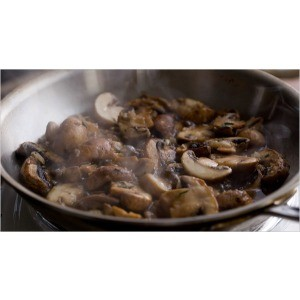mushroom_brain food: (81, 103, 242, 193)
